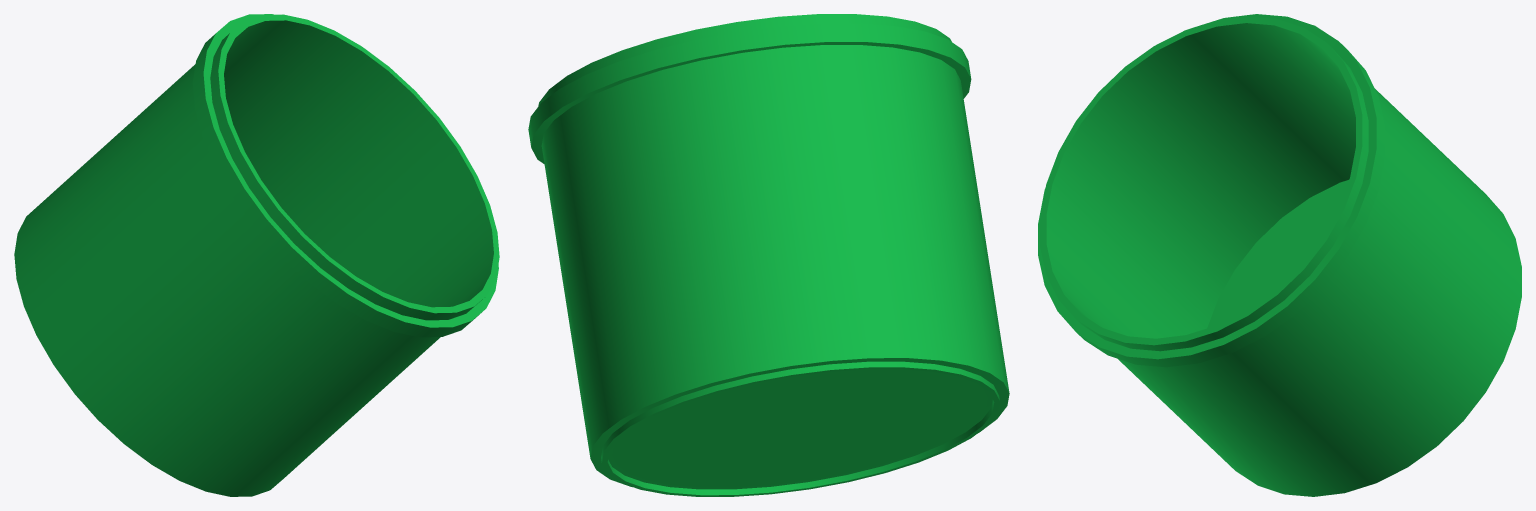
3 views of the same model, side by side, from view 1: azimuth 30°, elevation 25°; view 2: azimuth 150°, elevation 25°; view 3: azimuth 270°, elevation 25° (orthographic). The views are drawn at different scales.
Visible parts, largest first — view 1: Stacking Cup 6; view 2: Stacking Cup 6; view 3: Stacking Cup 6.
Part boxes in pixels (x1,y1,x2,y2): Stacking Cup 6: (14,14,499,496); Stacking Cup 6: (528,14,1009,496); Stacking Cup 6: (1038,14,1521,496).
Bounding box in the file's own units: 1.09 × 1.1 × 1.09.
